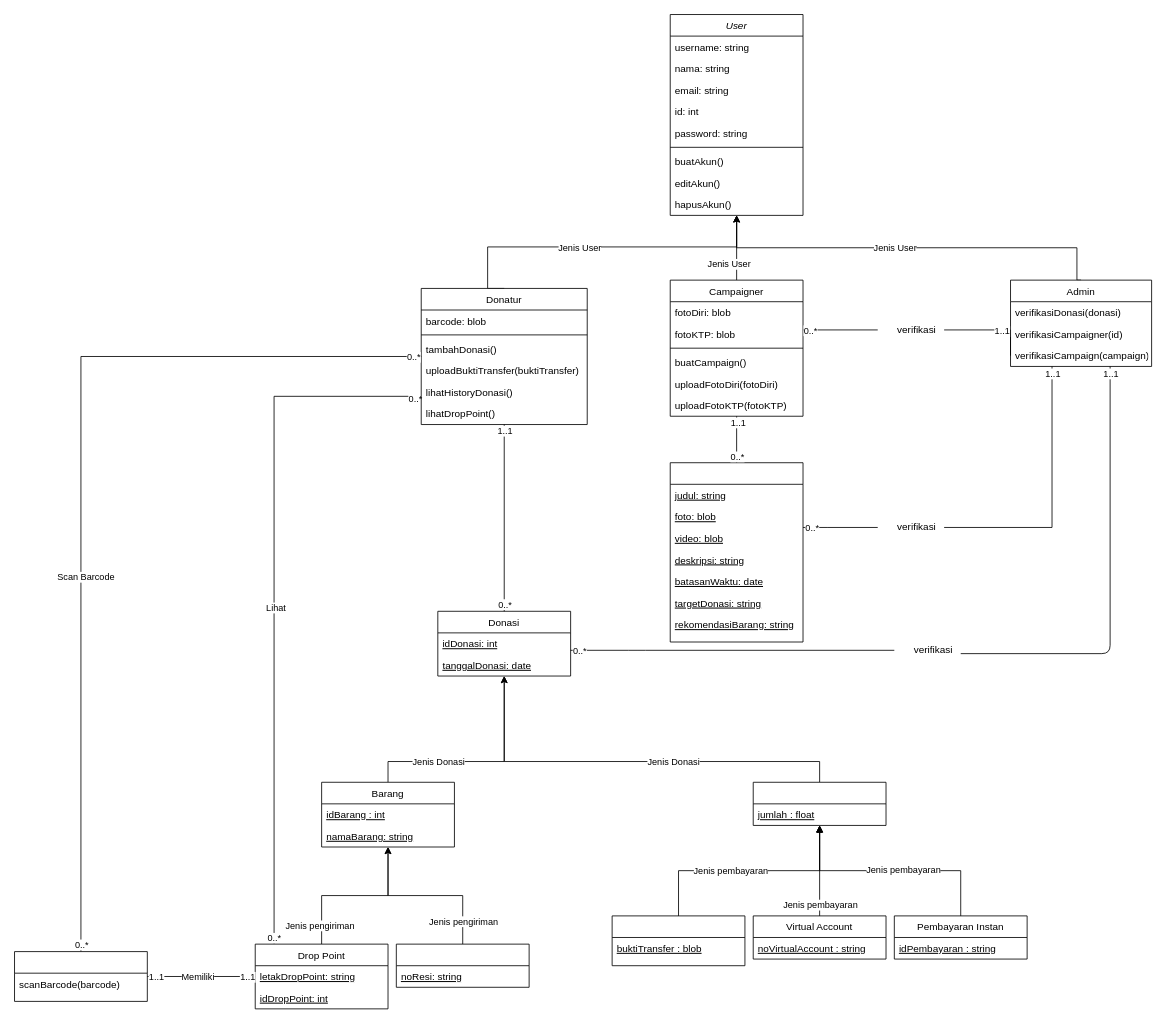
Image size: 1166x1026. Some labels were removed from this diagram. Here are the shapes that lost their labels. From the top down, the box of each, then its label:
(669, 462, 803, 642): Campaign
(752, 781, 886, 825): Uang
(611, 915, 745, 966): Transfer Bank
(14, 951, 147, 1001): Petugas
(395, 943, 529, 987): Kurir Ekspedisi
